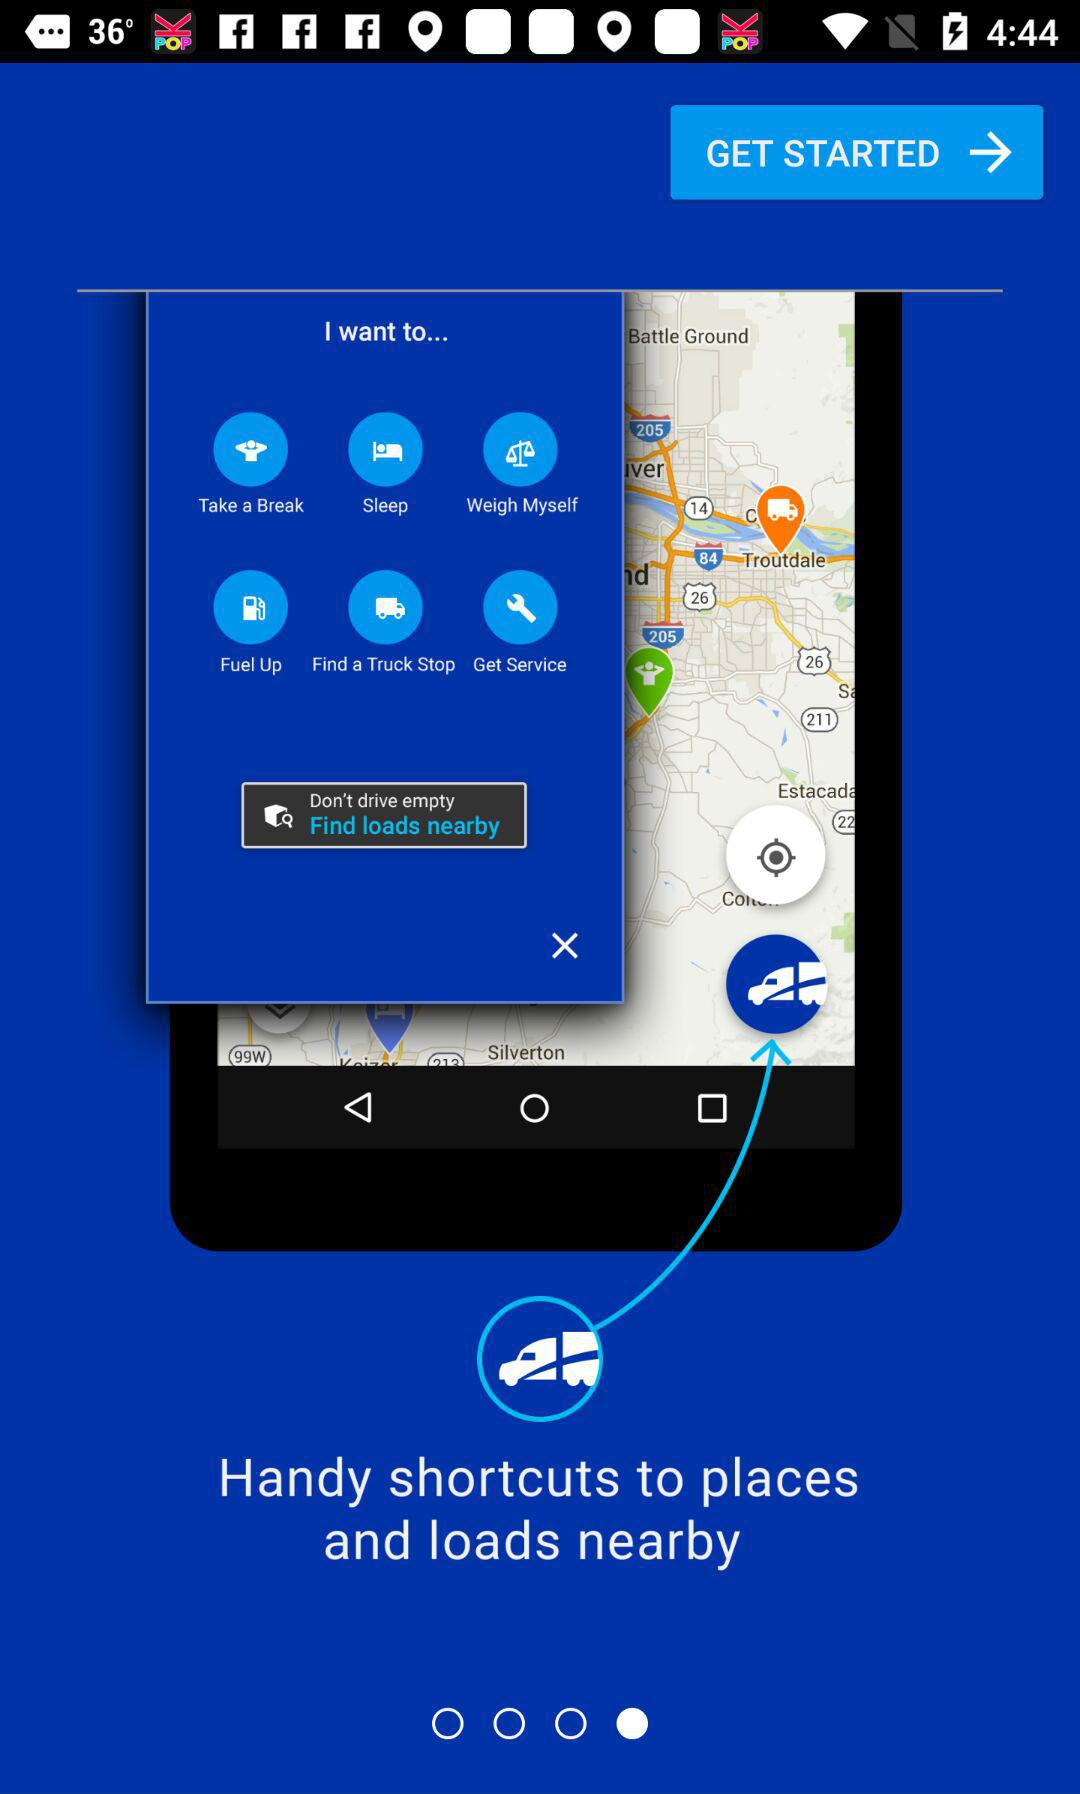Image: (146, 290, 903, 1424)
PageIndicator: (430, 1706, 650, 1741)
Text: (222, 1454, 858, 1572)
TextButton: (670, 105, 1044, 202)
UpperTaskBar: (1, 1, 1080, 64)
